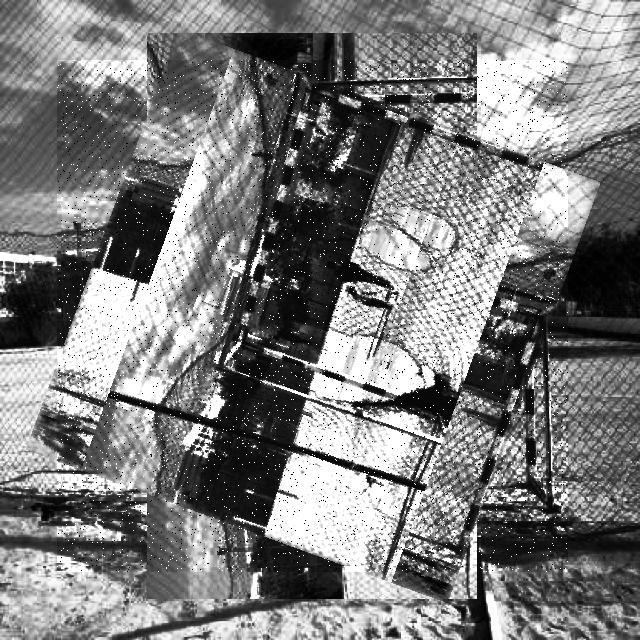anomaly-fence: (57, 60, 568, 572)
